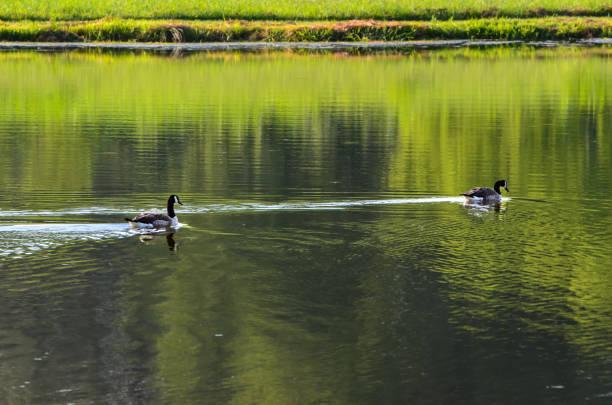Canadian-Goose: (127, 194, 183, 230), (464, 178, 510, 205)
